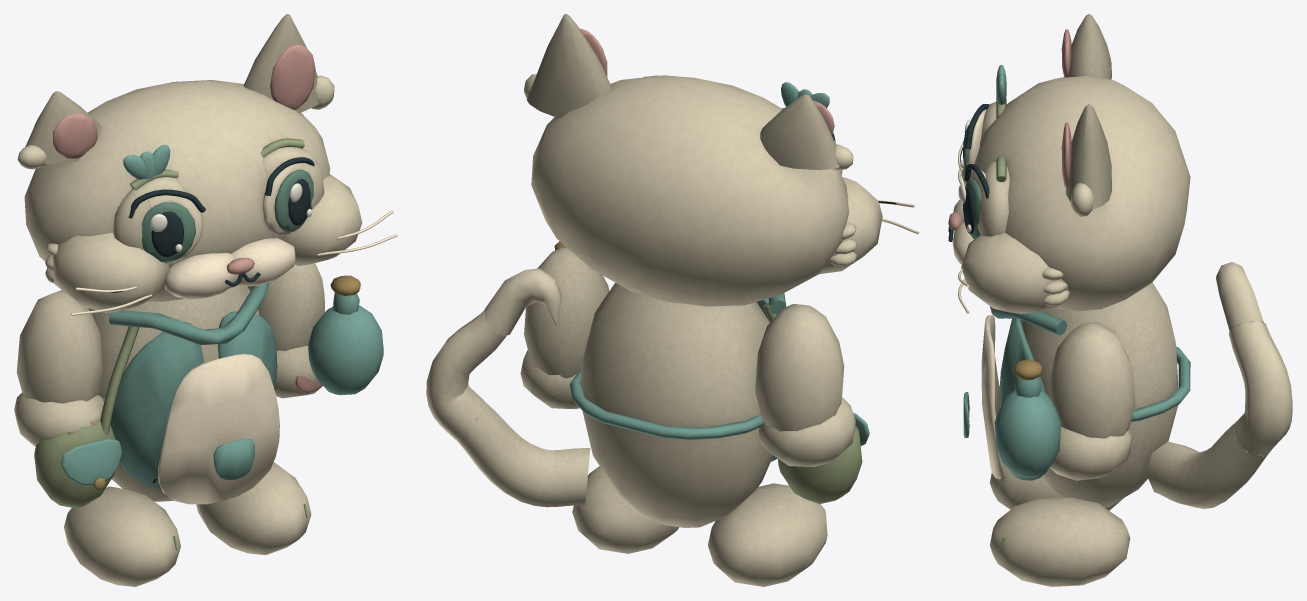
The model's file is clover.glb.
3 renders of one model, left to right at view 1: azimuth 30°, elevation 25°; view 2: azimuth 150°, elevation 25°; view 3: azimuth 270°, elevation 25°, orthographic. The views are drawn at different scales.
Visible parts, largest first — view 1: cheek-head, pear-body, arm, hind-paw, porcelain-eye, hind-paw.001, tea-flask, arm.001, leaf-satchel, rounded-ear-R, rounded-ear-L, nose; view 2: cheek-head, pear-body, arm, hind-paw, arm.001, tail-root, rounded-ear-R, tail-mid, rounded-ear-L, hind-paw.001, leaf-satchel, tail-tip; view 3: cheek-head, pear-body, arm.001, hind-paw.001, tail-mid, tail-root, tea-flask, rounded-ear-R, rounded-ear-L, porcelain-eye, tail-tip, hind-paw.
Part boxes in pixels (x1,y1,x2,y2): cheek-head: (24,80,397,315); pear-body: (88,282,279,504); arm: (14,290,103,446); hind-paw: (64,486,180,586); porcelain-eye: (128,157,314,263); hind-paw.001: (196,462,311,554); tea-flask: (308,275,383,395); arm.001: (247,263,324,398); leaf-satchel: (34,419,121,507); rounded-ear-R: (243,14,334,113); rounded-ear-L: (17,91,100,169); nose: (225,258,260,286); cheek-head: (531,75,919,306); pear-body: (569,282,786,527); arm: (755,304,855,466); hind-paw: (708,483,827,586); arm.001: (520,247,609,409); tail-root: (456,401,590,507); rounded-ear-R: (524,14,611,118); tail-mid: (426,310,506,440); rounded-ear-L: (760,94,853,170); hind-paw.001: (572,466,678,553); leaf-satchel: (777,413,869,504); tail-tip: (484,268,561,336); cheek-head: (952,64,1190,313); pear-body: (963,282,1190,507); arm.001: (1048,322,1135,480); hind-paw.001: (990,497,1130,586); tail-mid: (1228,321,1292,455); tail-root: (1146,421,1271,508); tea-flask: (994,359,1061,477); rounded-ear-R: (1061,104,1111,216); rounded-ear-L: (1061,14,1111,79); porcelain-eye: (958,104,989,239); tail-tip: (1216,262,1263,331); hind-paw: (990,463,1123,510).
Bounding box in the file's own units: 1.03 × 1.47 × 0.9201.
1 material, 1 textured.
